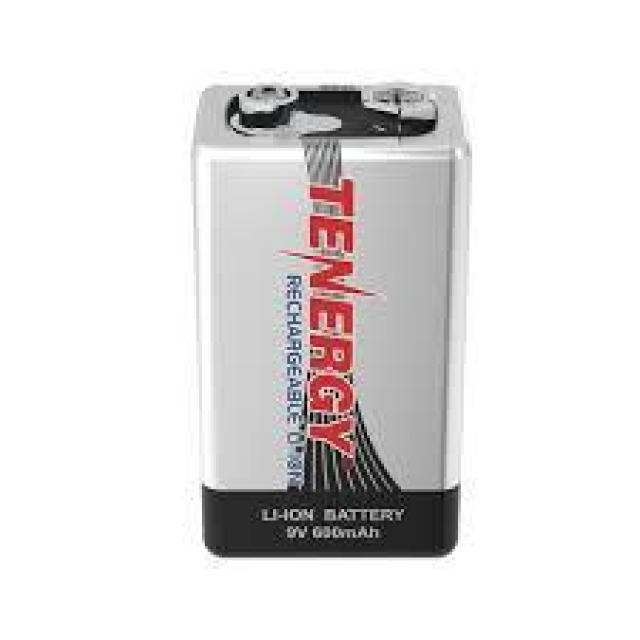9V: (175, 60, 496, 569)
